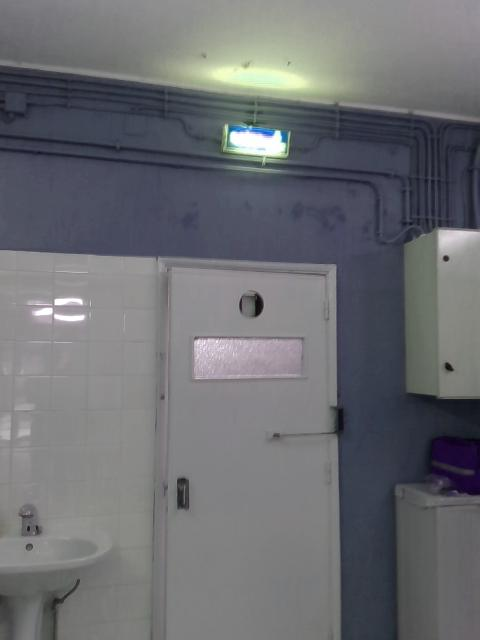closed_door: (154, 259, 344, 639)
